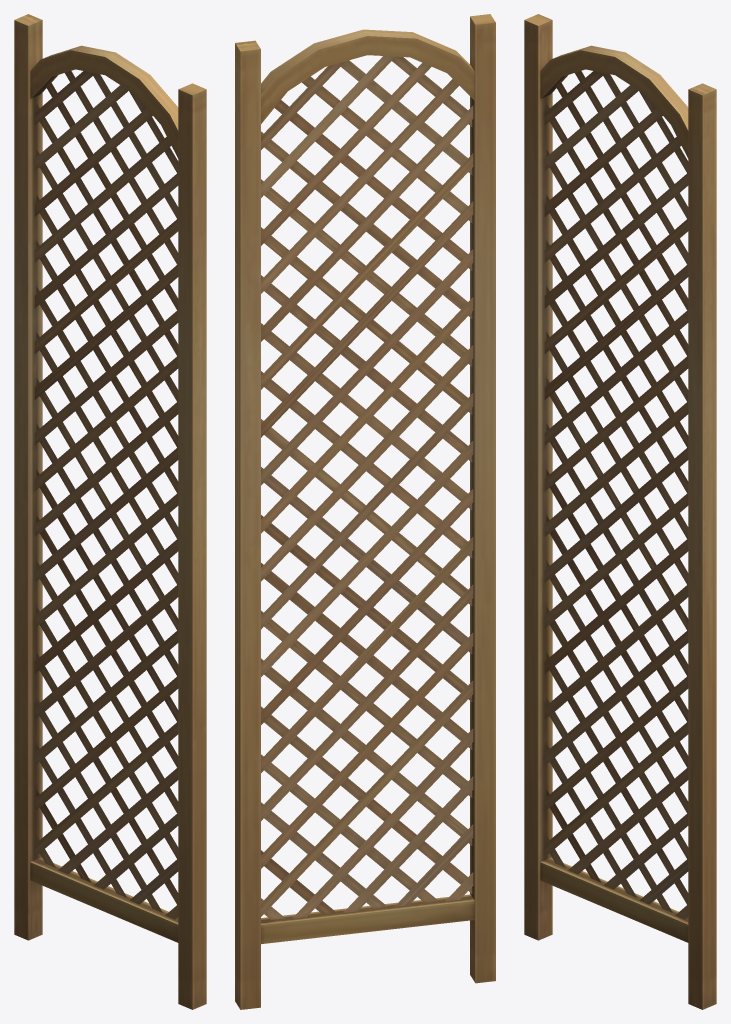
The model's file is Map_Furniture_097.fbx.
3 views of the same model, side by side, from view 1: azimuth 90°, elevation 25°; view 2: azimuth 150°, elevation 25°; view 3: azimuth 270°, elevation 25° (orthographic). The views are drawn at different scales.
Visible parts, largest first — view 1: Map_Furniture_097; view 2: Map_Furniture_097; view 3: Map_Furniture_097.
Part boxes in pixels (x1,y1,x2,y2): Map_Furniture_097: [14, 14, 206, 1009]; Map_Furniture_097: [235, 14, 495, 1009]; Map_Furniture_097: [524, 14, 716, 1009].
Bounding box in the file's own units: 0.3818 × 2 × 0.3818.
